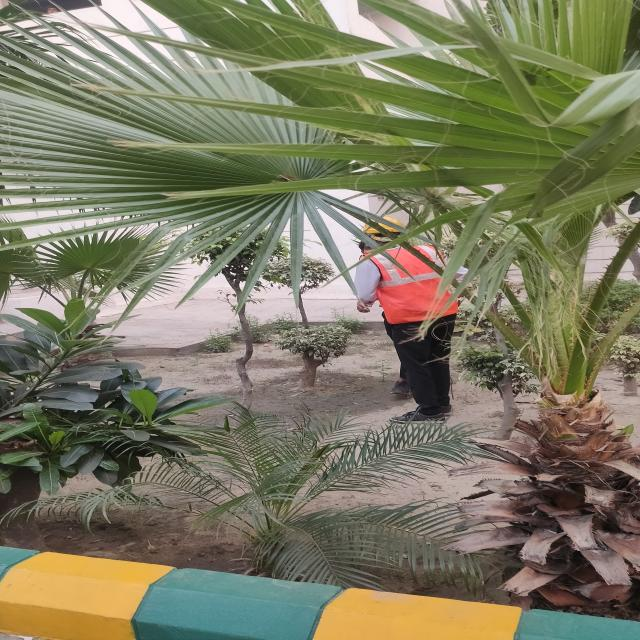unsafe: (338, 216, 468, 426)
